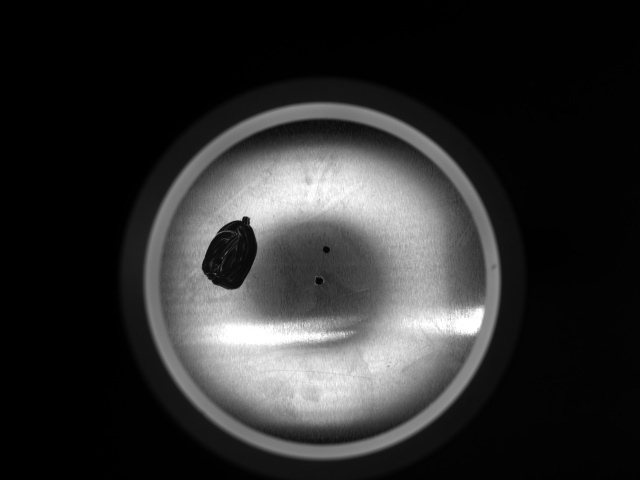zang_wu: (200, 215, 265, 290)
zhen_kong: (313, 275, 326, 285), (321, 243, 332, 254)
